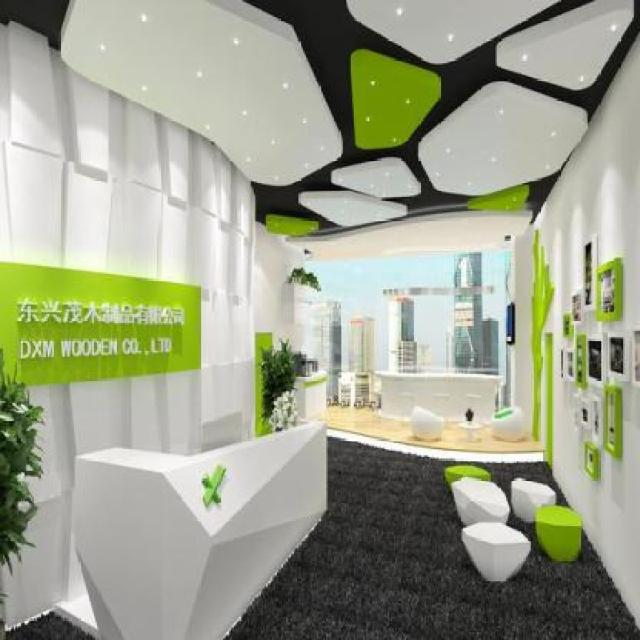frontdesk: (38, 429, 334, 639)
